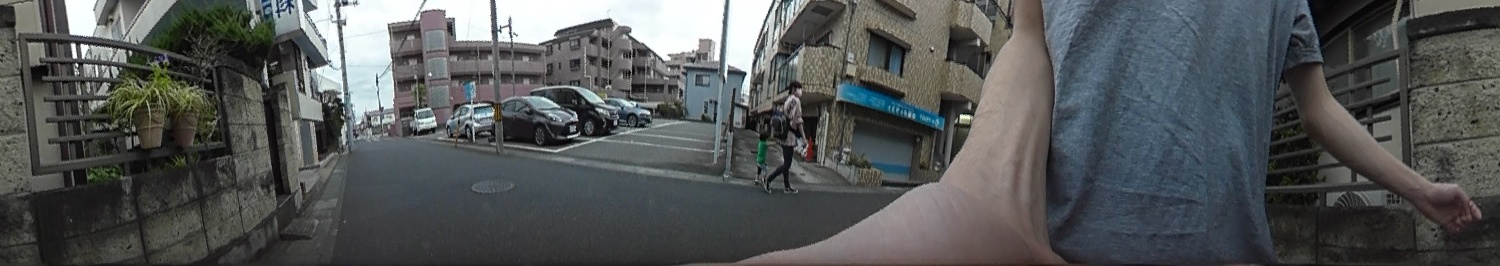person: (764, 76, 803, 196), (750, 126, 769, 188)
